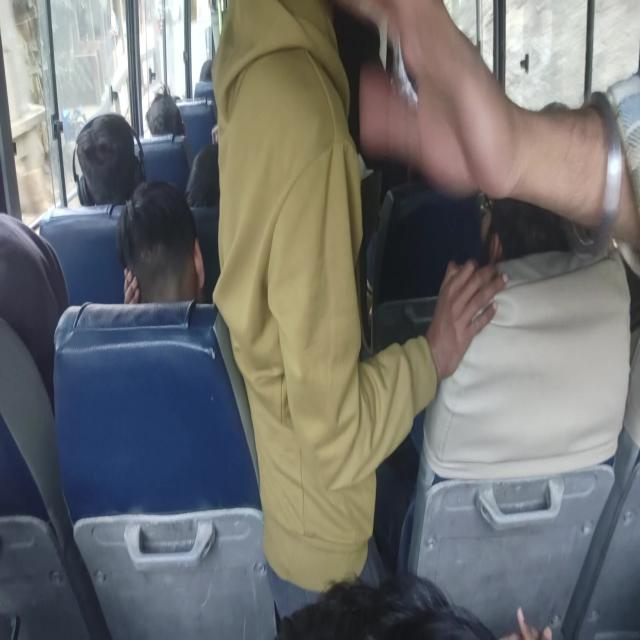person: (232, 0, 422, 396), (484, 56, 640, 365), (259, 555, 566, 640), (110, 192, 236, 344), (469, 164, 610, 294), (57, 80, 141, 186), (0, 205, 73, 325), (194, 156, 237, 205), (150, 84, 186, 142), (194, 41, 222, 92)
